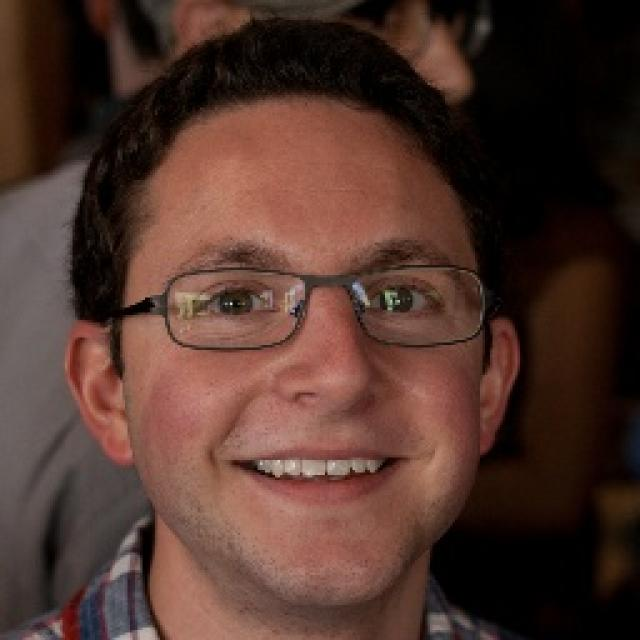earlobe: (92, 414, 138, 466), (477, 402, 505, 457)
eye: (199, 287, 284, 318), (368, 284, 440, 314)
nose: (283, 390, 373, 434)
wholeear: (64, 322, 138, 466), (476, 316, 520, 458)
